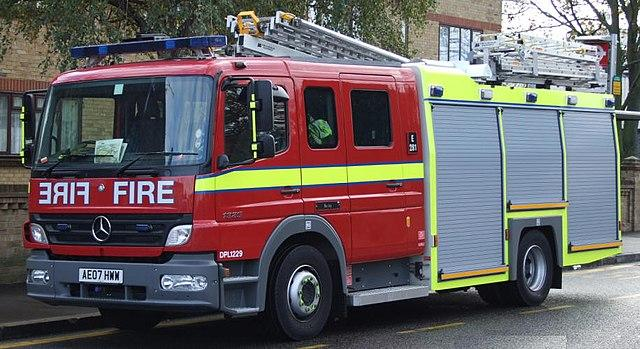Emergency-Vehicles: (27, 36, 626, 330)
